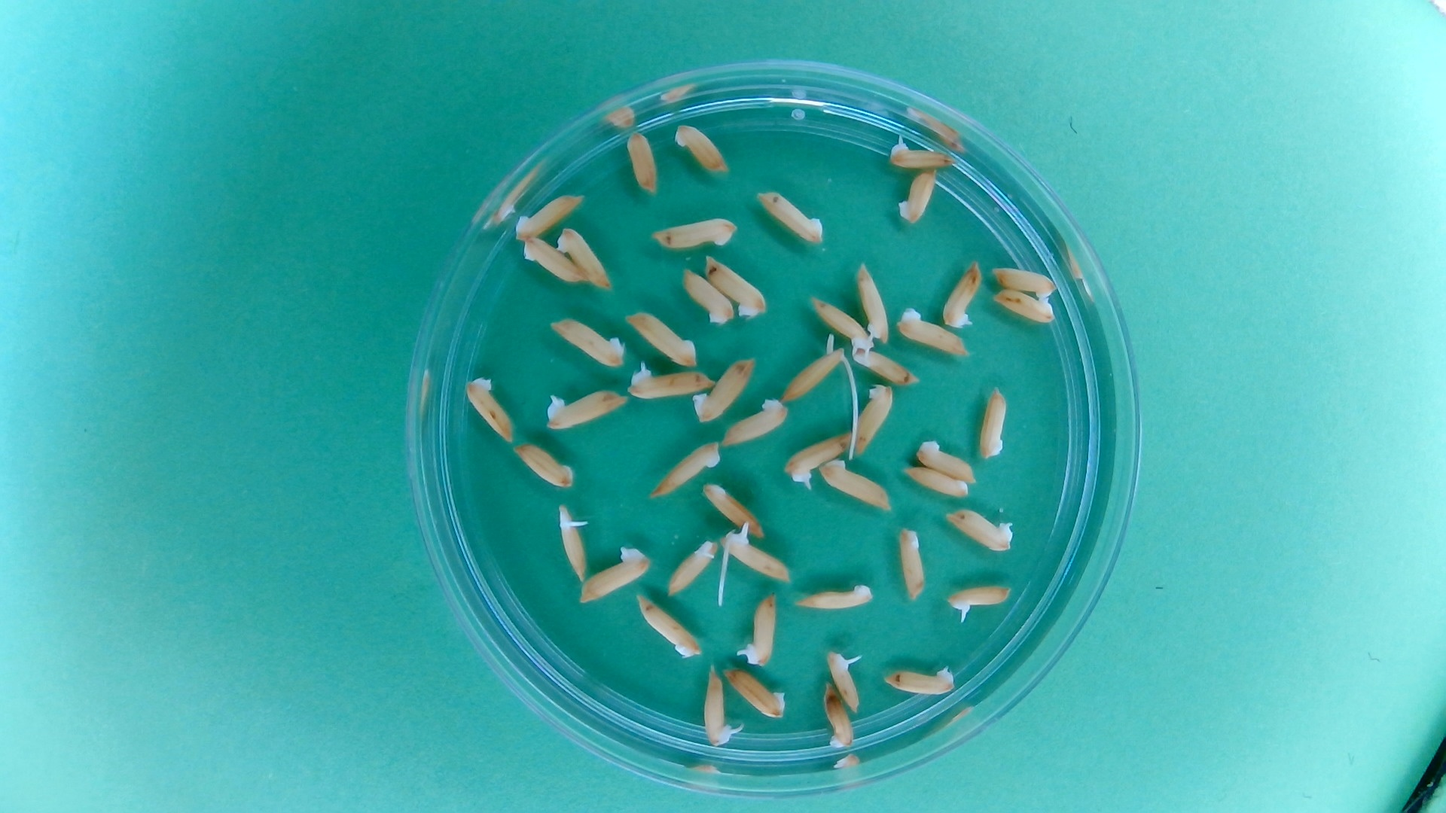no: (623, 307, 700, 369), (575, 544, 653, 605), (691, 355, 758, 425), (646, 439, 721, 501), (634, 592, 703, 659), (546, 313, 627, 369), (703, 253, 769, 321), (753, 187, 828, 246), (893, 305, 971, 358), (819, 458, 895, 511), (807, 293, 874, 353), (461, 373, 516, 446), (511, 190, 585, 242), (700, 480, 767, 537), (556, 224, 612, 291), (848, 382, 895, 460), (723, 665, 789, 720), (943, 505, 1017, 554), (519, 233, 586, 287), (721, 396, 790, 447), (648, 214, 741, 251), (678, 266, 734, 326), (853, 261, 892, 346), (672, 120, 732, 175), (847, 341, 920, 385), (511, 440, 576, 489), (941, 256, 984, 330), (914, 437, 978, 484), (792, 577, 876, 612), (881, 661, 959, 698), (895, 168, 940, 227), (977, 383, 1011, 460), (896, 524, 929, 603), (899, 464, 973, 499), (989, 263, 1057, 300), (990, 289, 1056, 326), (821, 682, 856, 751), (624, 129, 660, 196)
yes: (721, 526, 793, 583), (541, 387, 629, 431), (782, 431, 853, 485), (779, 345, 847, 401), (625, 361, 714, 400), (740, 590, 779, 665), (669, 536, 715, 598), (700, 666, 734, 746), (554, 503, 588, 582), (826, 647, 863, 714), (886, 137, 957, 171), (945, 582, 1011, 617)
